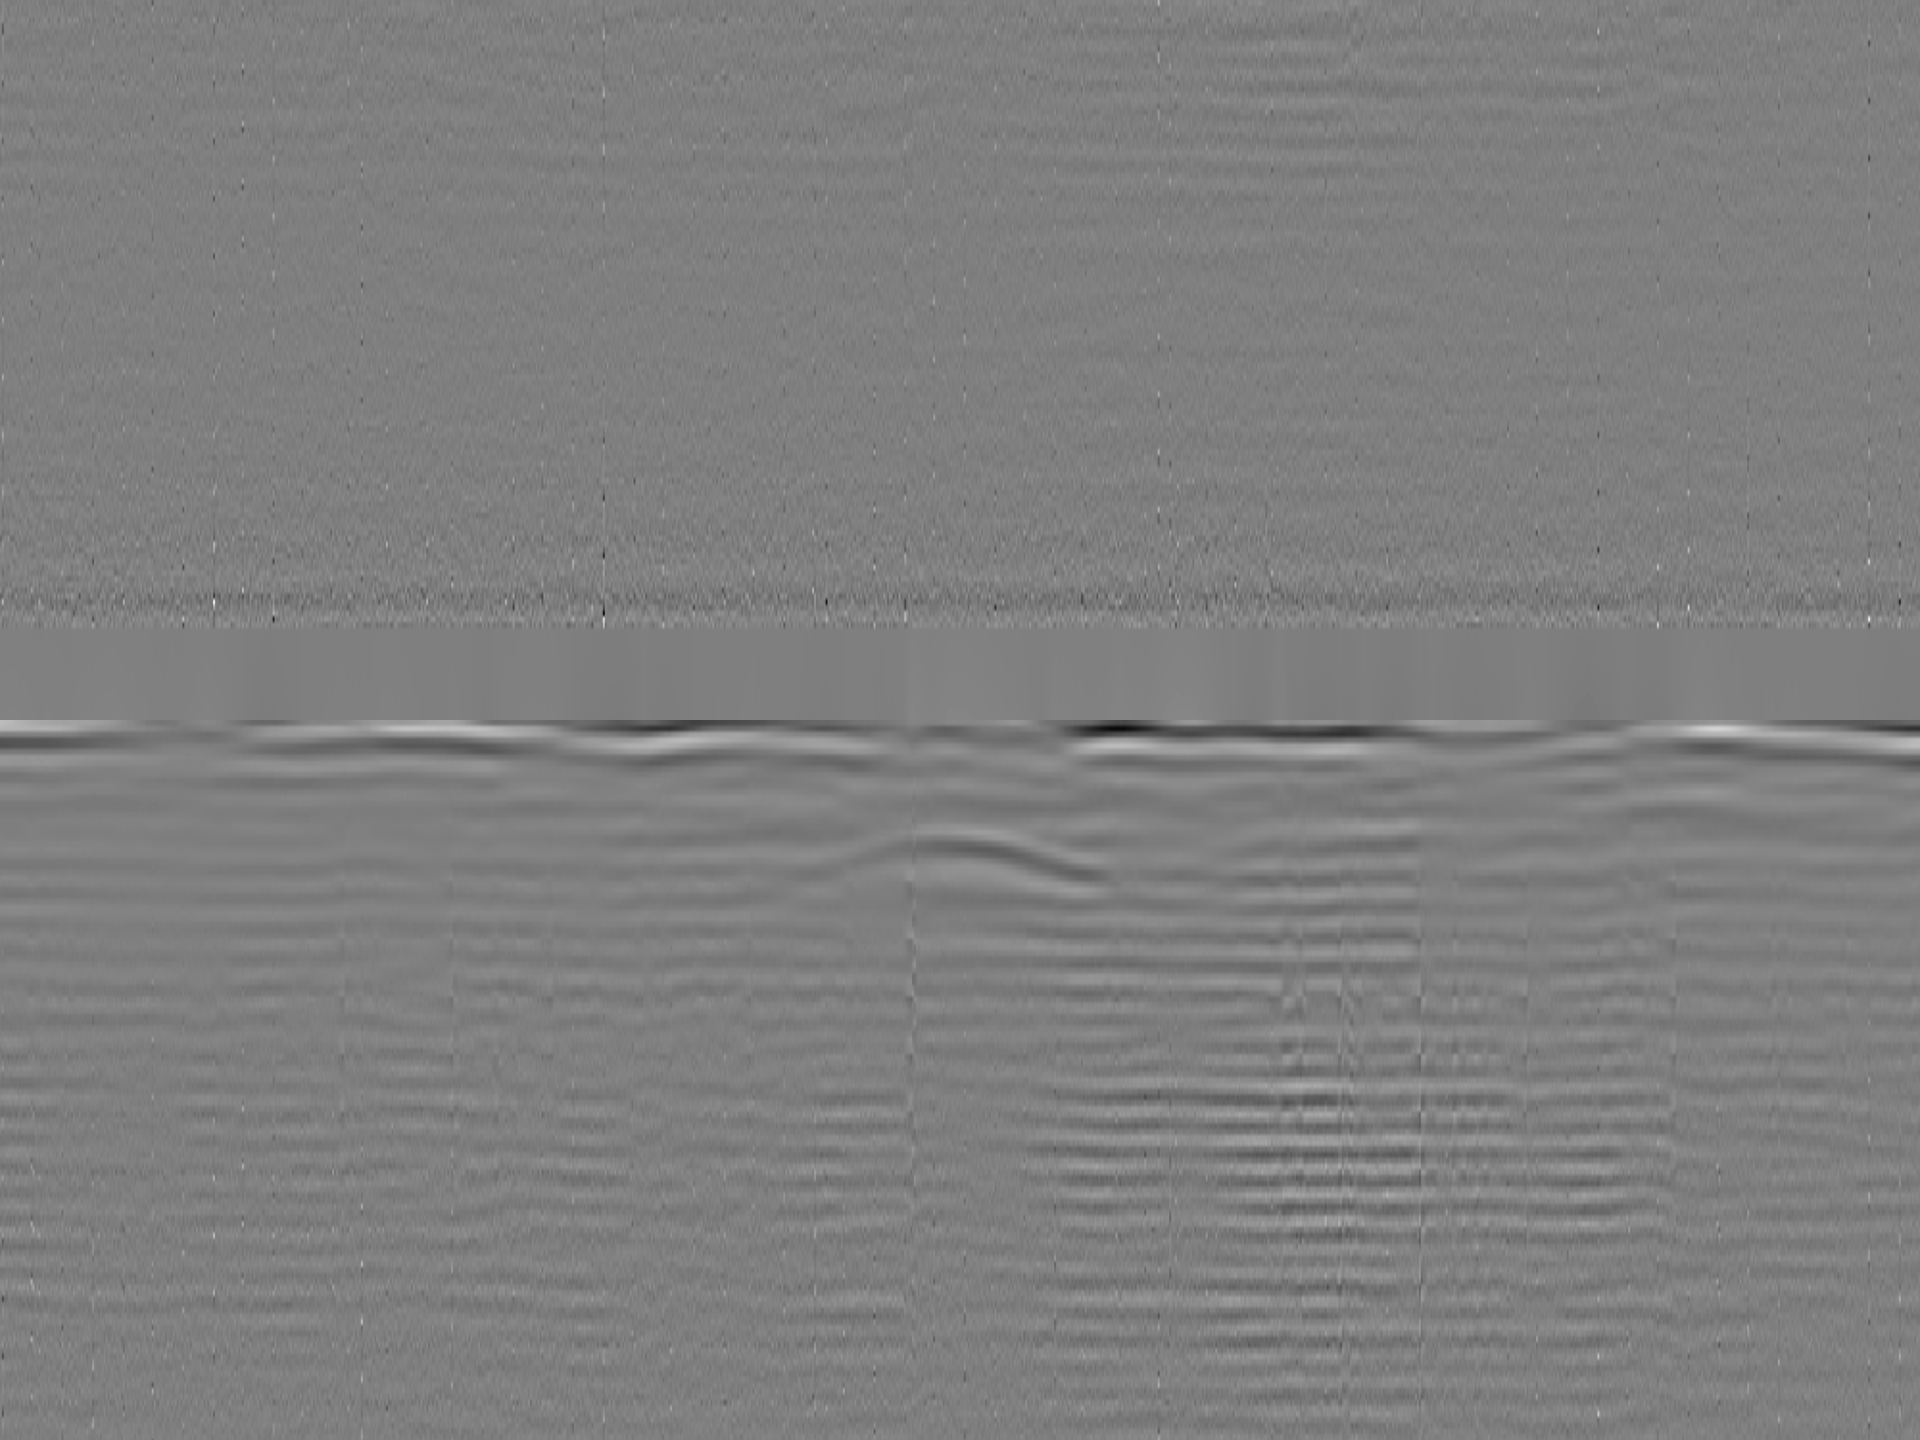Tunnel: (789, 821, 1123, 895)
